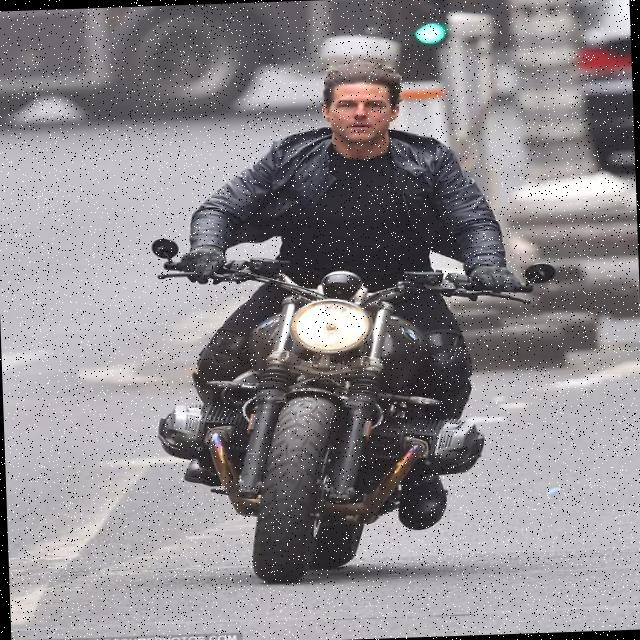No helmet: (312, 52, 414, 172)
